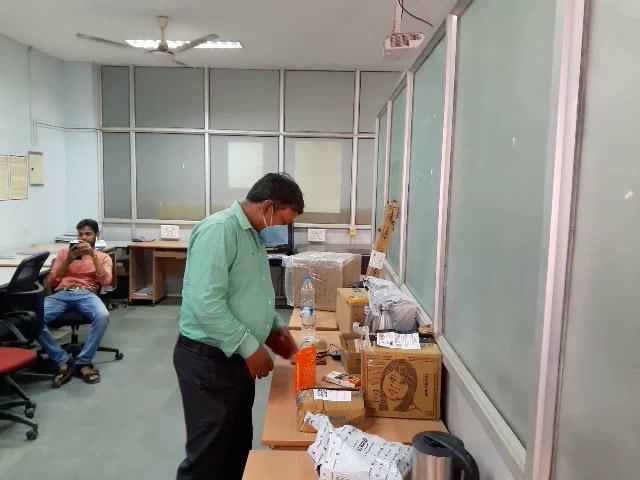shoplifting: (156, 293, 378, 429)
